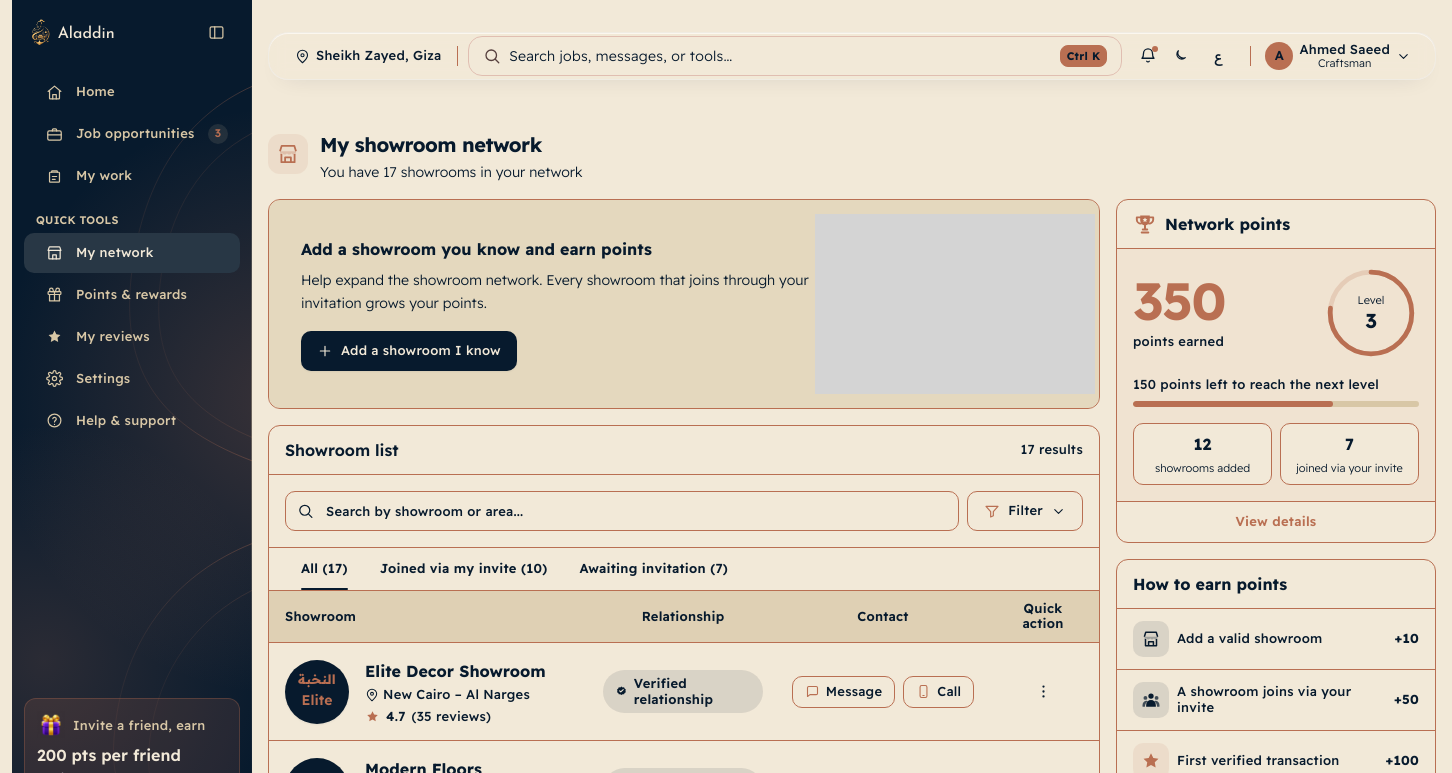
it: InstallerNetworkPreview › filters locally by search, area, and relationship tab
Type "Marble" into the field with placeholder "Search by showroom or area..." at (622, 511), box [285,491,959,531]
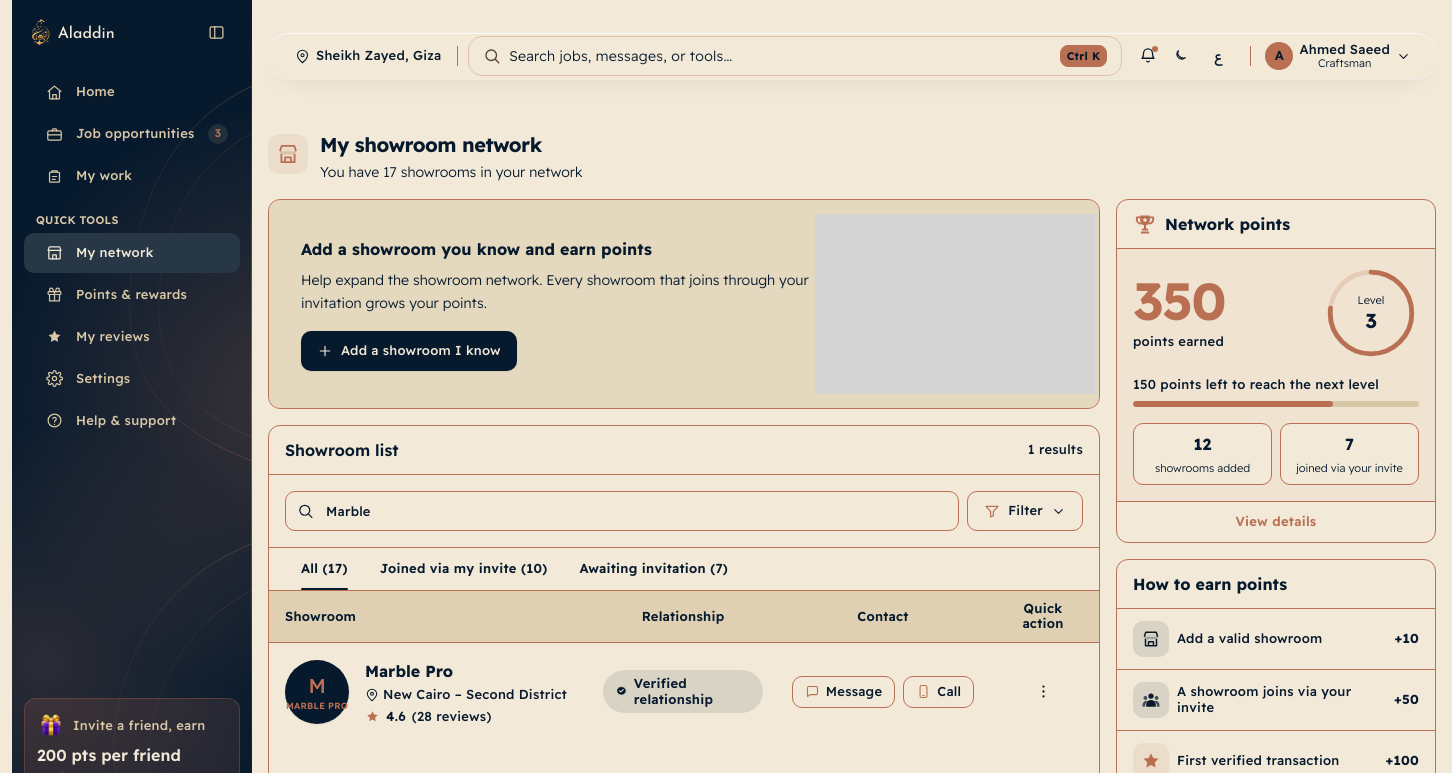
expect the text "Marble Pro" is shown: met, box [365,661,453,681]
Clear the field with placeholder "Search by showroom or area..." at (622, 511), box [285,491,959,531]
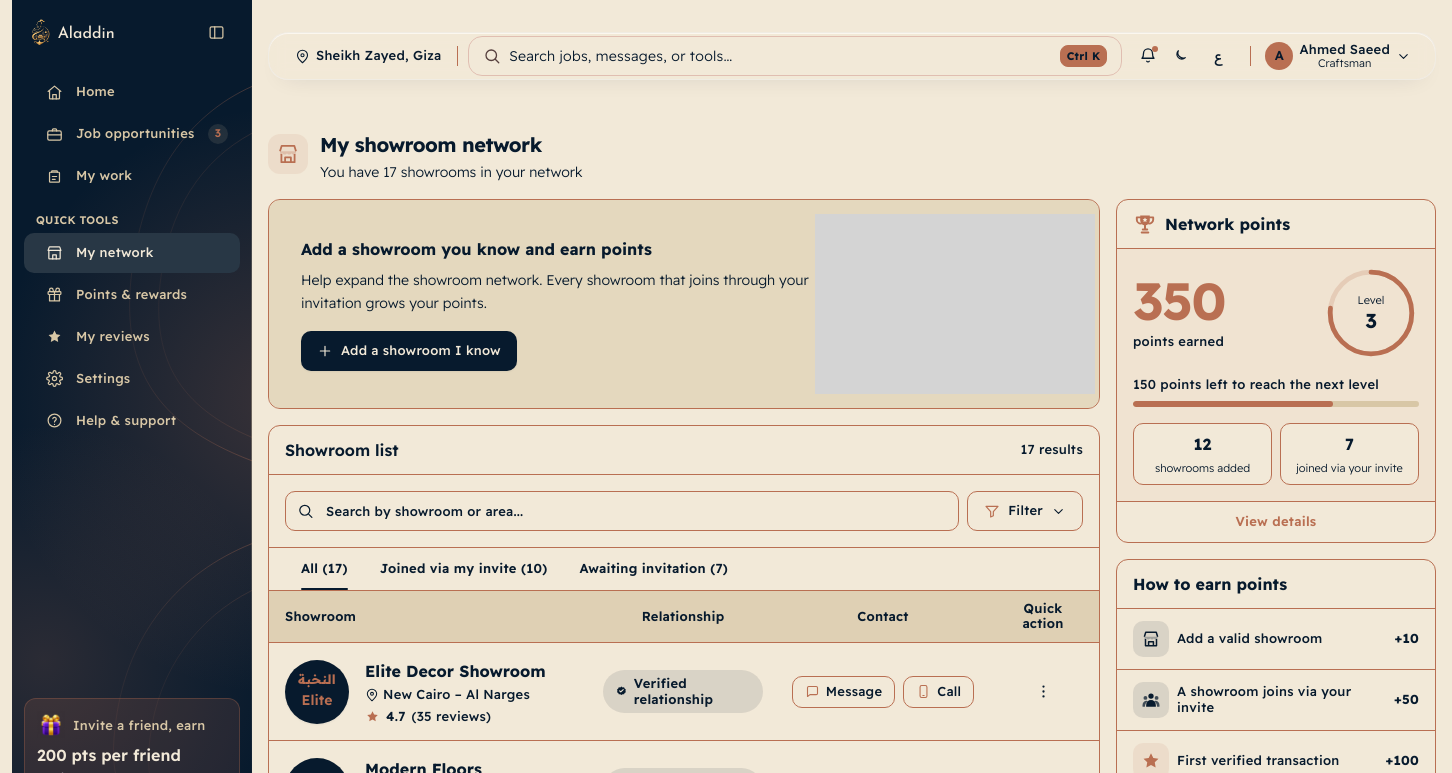
Click the button "Filter" at (1025, 511), box [967,491,1083,531]
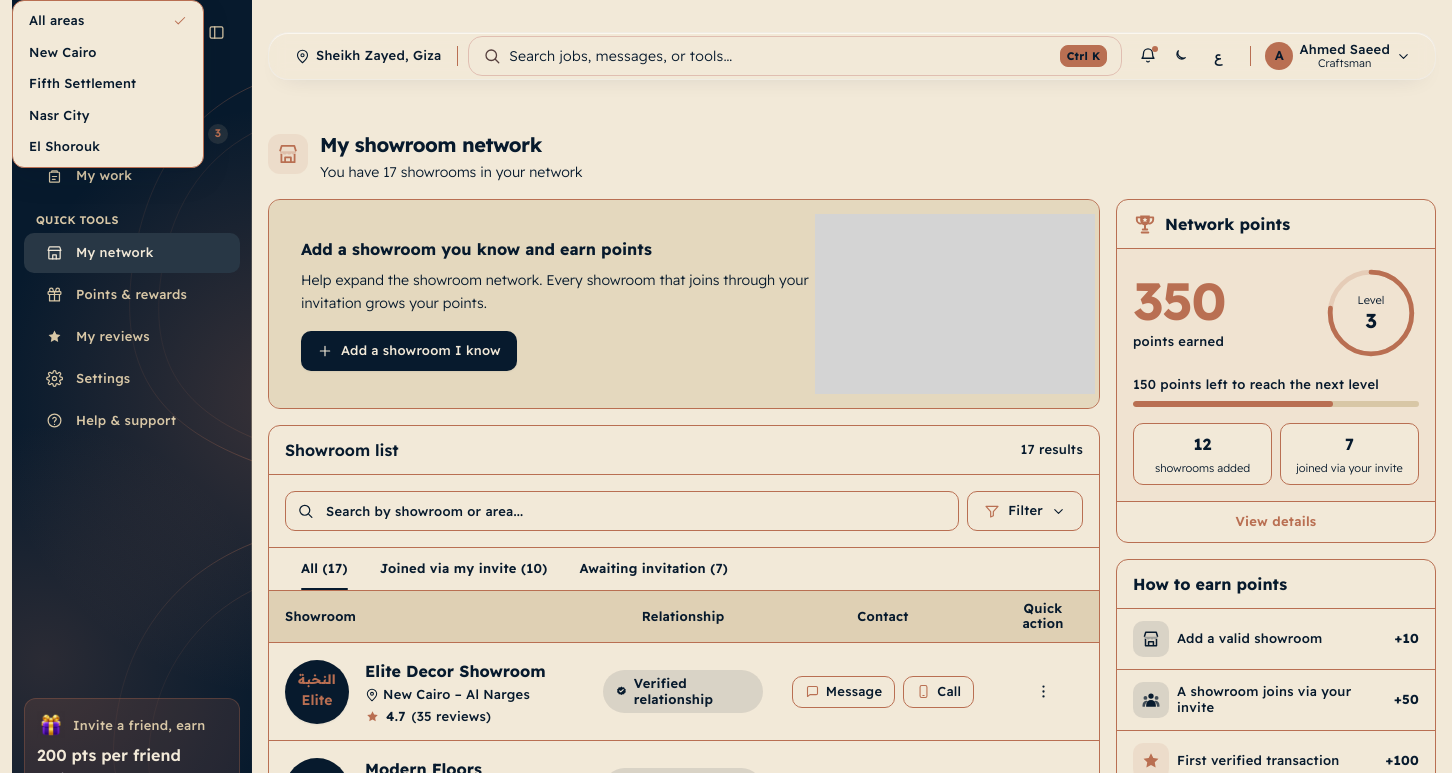
Click the menu item "Nasr City" at (108, 116), box [13,100,203,131]
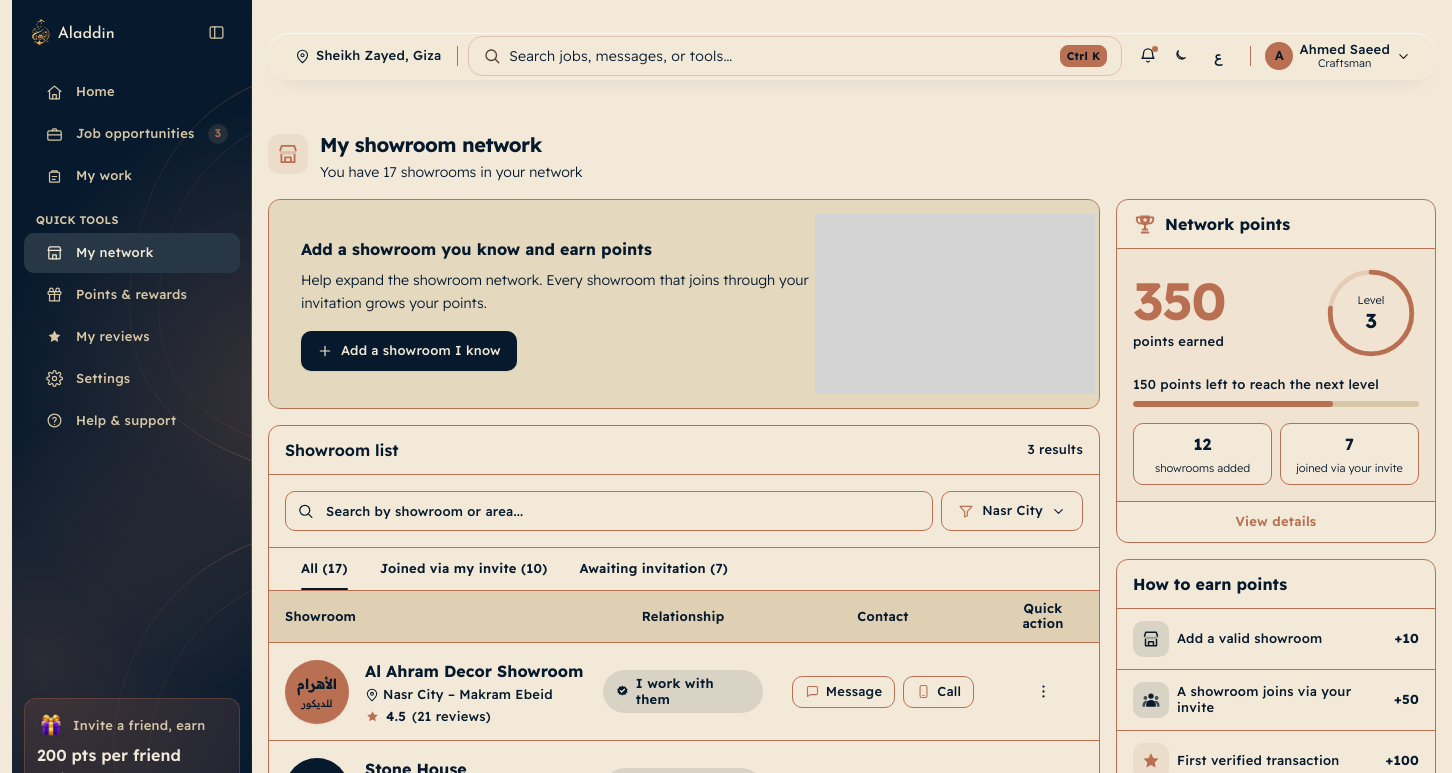
expect the text "Al Ahram Decor Showroom" is shown: met, box [365,659,584,683]
expect the text "Elite Decor Showroom" is gone: met
Click the tab "Awaiting invitation (7)" at (654, 569), box [564,548,744,590]
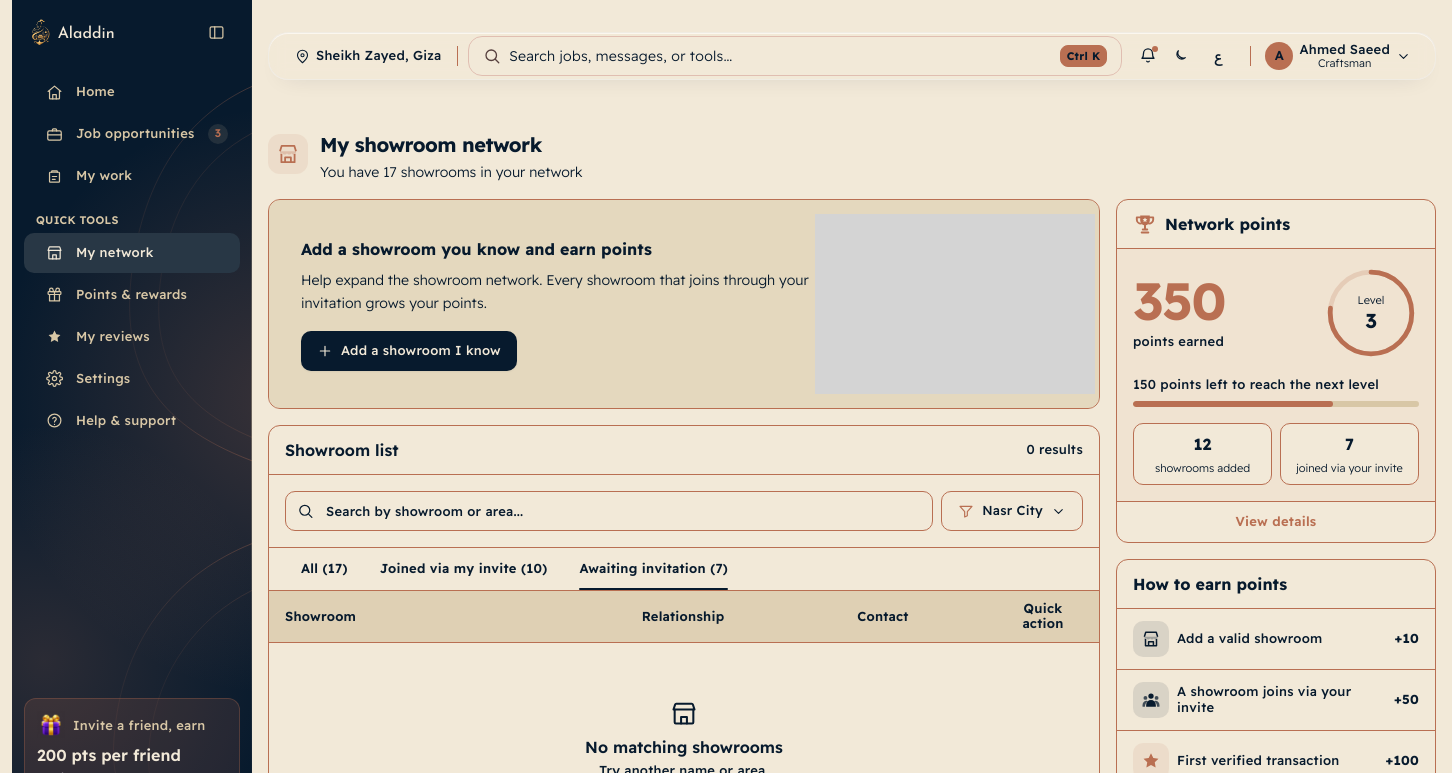
expect the heading "No matching showrooms" is shown: met, box [585,735,783,759]
